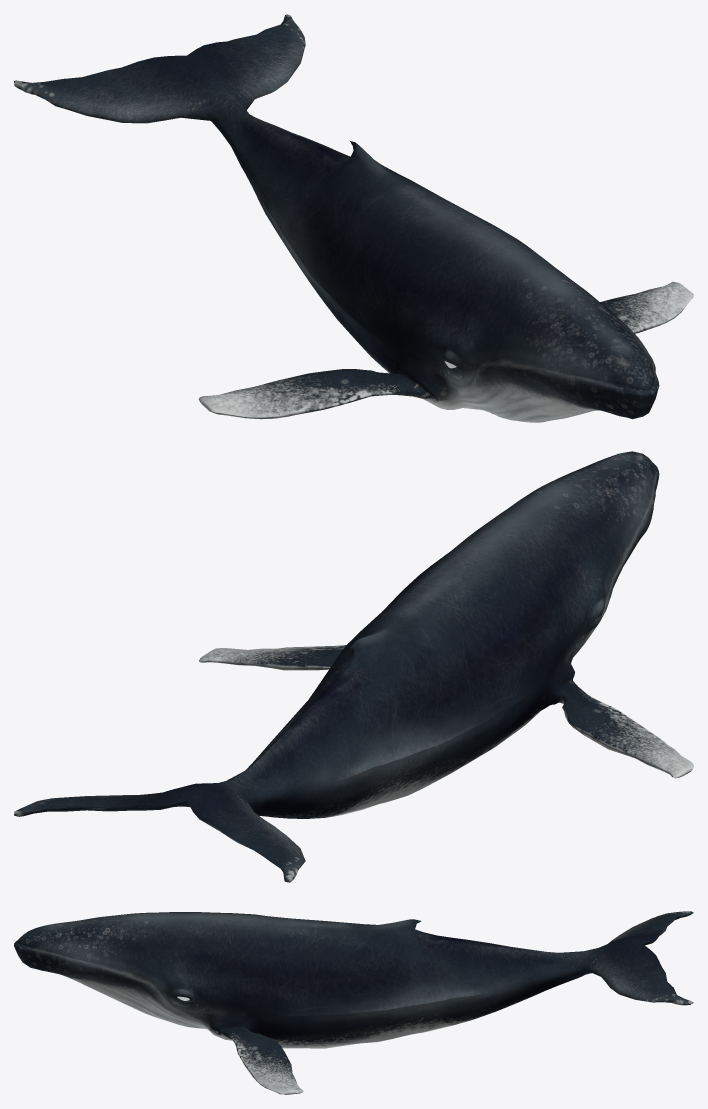
File: whale.obj
3 renders of one model, top to bottom at view 1: azimuth 30°, elevation 25°; view 2: azimuth 150°, elevation 25°; view 3: azimuth 270°, elevation 25°, orthographic. The views are drawn at different scales.
Visible parts, largest first — view 1: WhaleUV; view 2: WhaleUV; view 3: WhaleUV.
Part boxes in pixels (left/top/right/bottom): WhaleUV: left=14, top=14, right=693, bottom=422; WhaleUV: left=14, top=451, right=693, bottom=882; WhaleUV: left=14, top=911, right=693, bottom=1094.
Bounding box in the file's own units: 28.88 × 10.6 × 51.95.
1 material, 1 textured.
